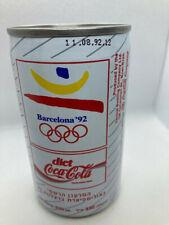metal: (8, 25, 131, 218)
